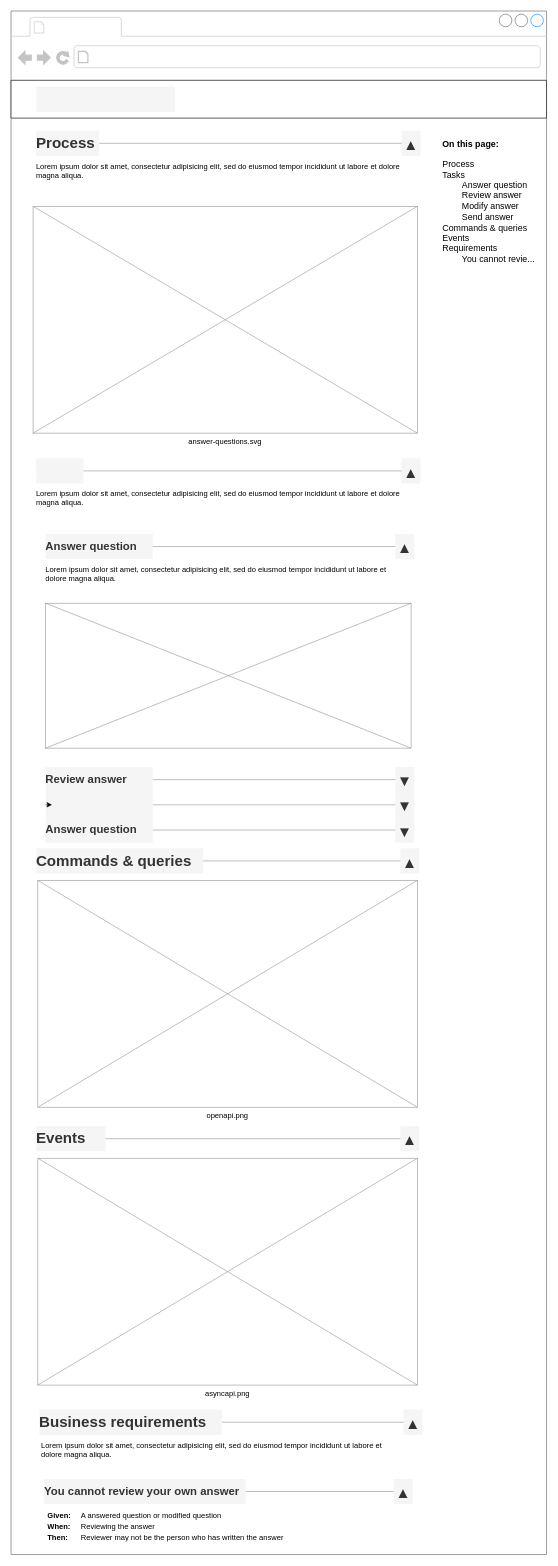
This 558x1566 diagram has some shape labels left out. The shapes that lost their labels are listed below. From the top down, each one's centre as x and y in pixels, then its label:
the point at 83,26: Answer quest
the point at 171,56: https://contact-centre.documentation.com/processes/answer-questions.html
the point at 105,99: Answer questions
the point at 59,470: Tasks
the point at 228,675: answer-question-task.drawio.svg
the point at 98,804: Modify answer
